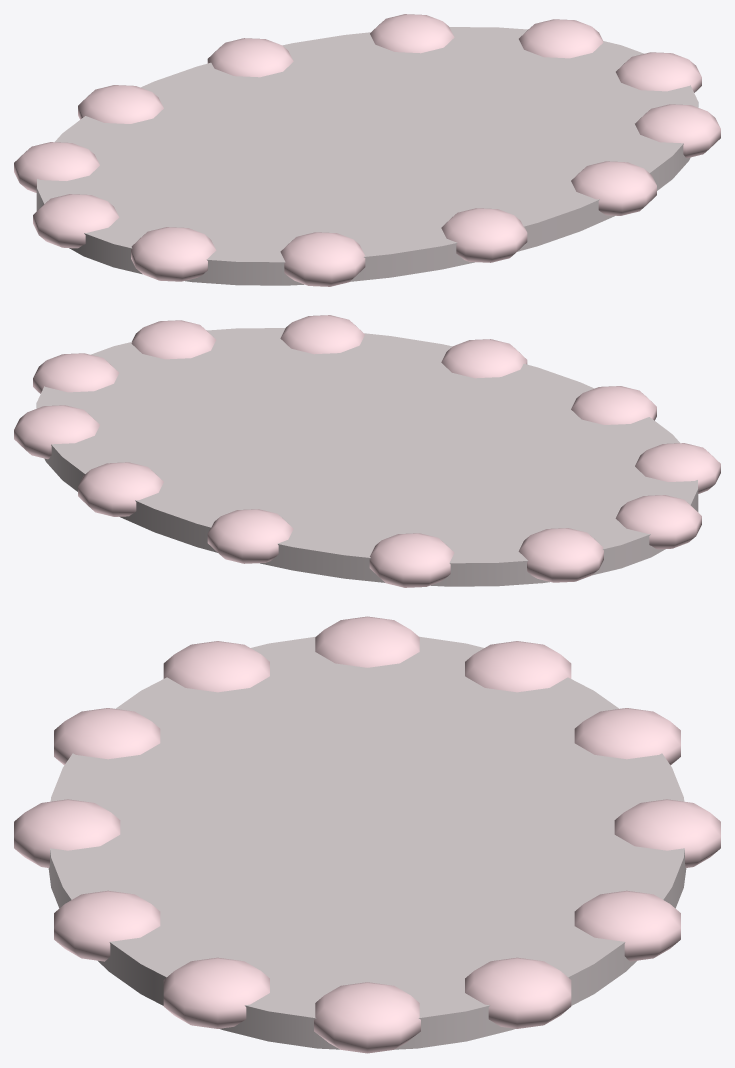
Rendered from bathmat-fluffy.glb.
3 renders of one model, top to bottom at view 1: azimuth 30°, elevation 25°; view 2: azimuth 150°, elevation 25°; view 3: azimuth 270°, elevation 25°, orthographic. The views are drawn at different scales.
Bounding box in the file's own units: 1.18 × 0.07 × 0.8498.
